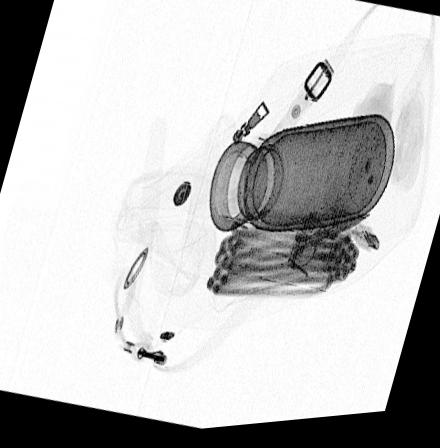Scissors: (287, 220, 369, 274)
